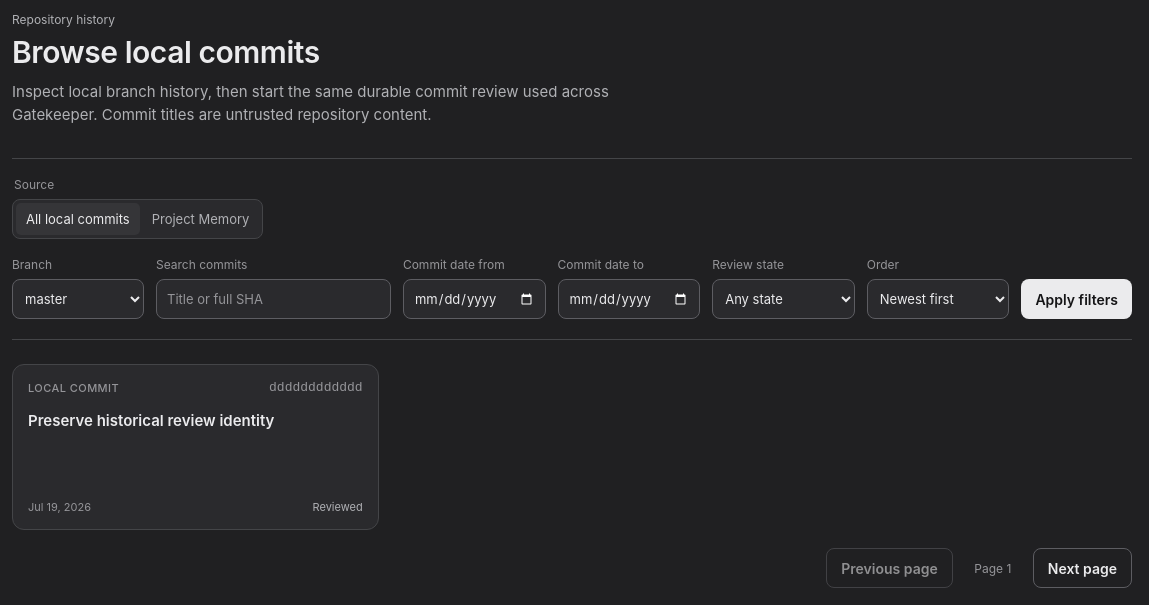
Test case: Commit Explorer › keeps source and filters in scope while paginating forward and backward
The image size is (1149, 605).
expect the text "Preserve historical review identity" is shown: met, box [28,411,274,430]
Click the radio button labelled "Project Memory" at (201, 219), box [152,211,250,227]
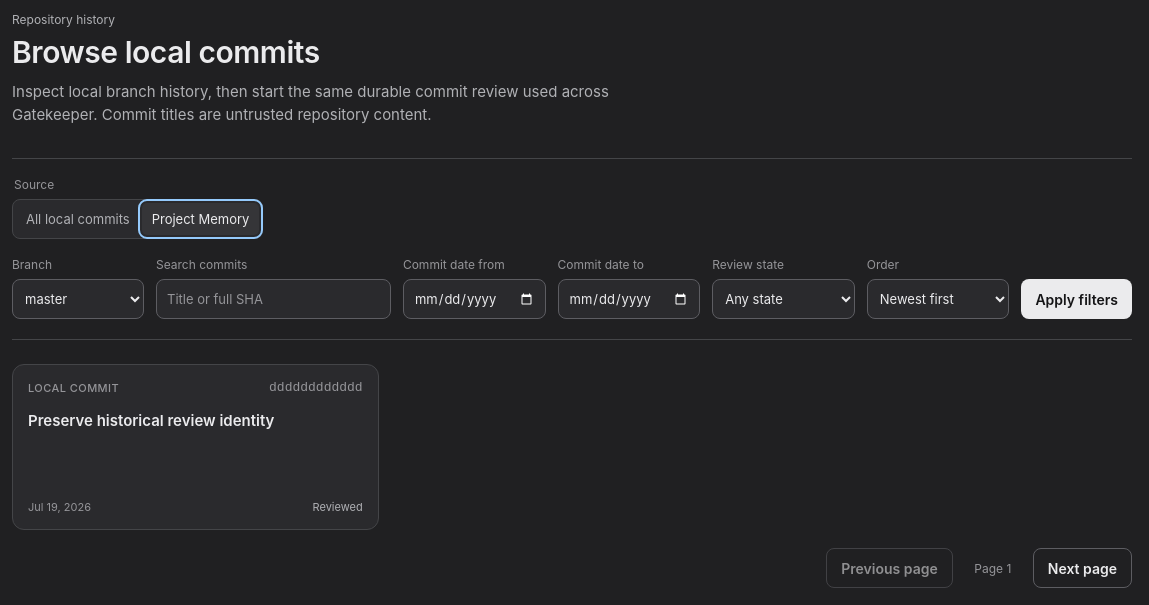
Type "identity" into the search field labelled "Search commits" at (273, 299), box [156,279,391,319]
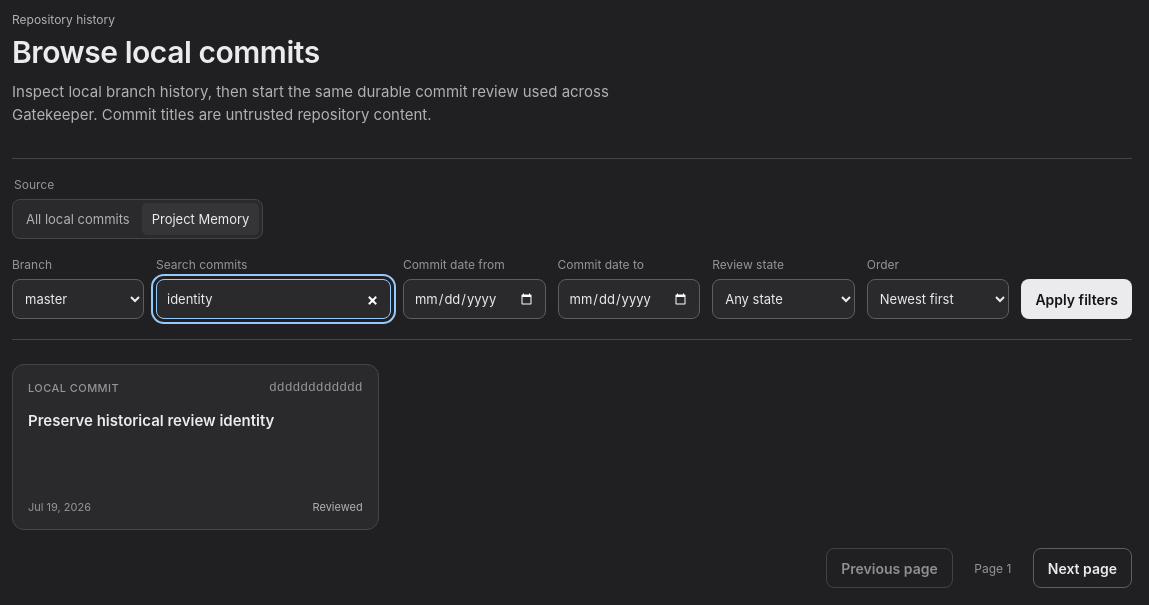
Click the button "Apply filters" at (1077, 299), box [1021,279,1132,319]
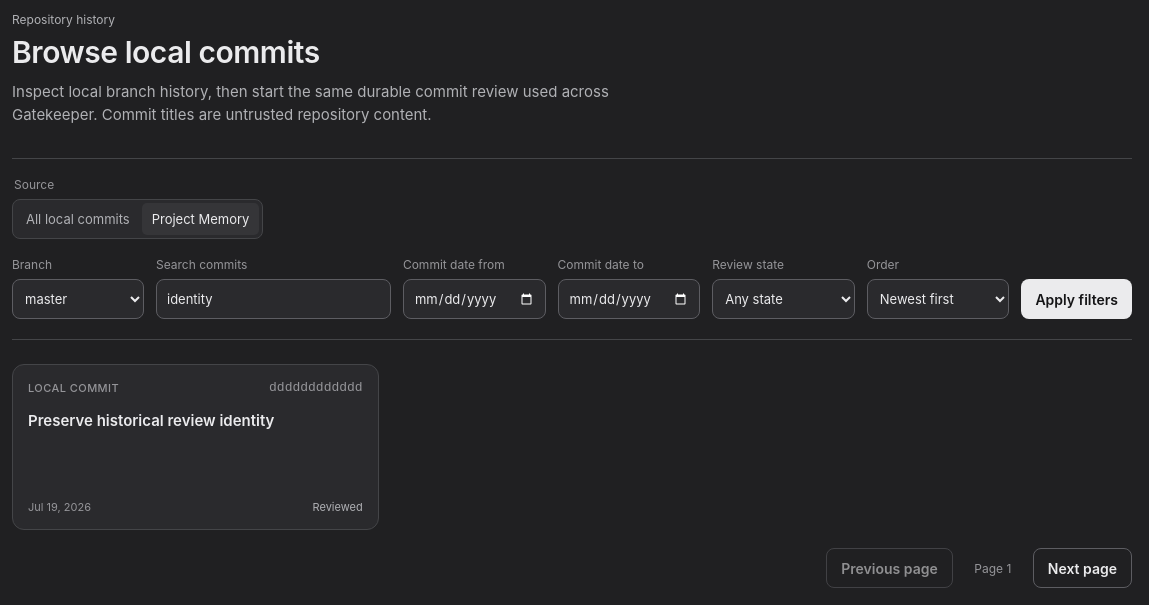
expect the text "Preserve historical review identity" is shown: met, box [28,411,274,430]
Click the button "Next page" at (1082, 568), box [1033,548,1132,588]
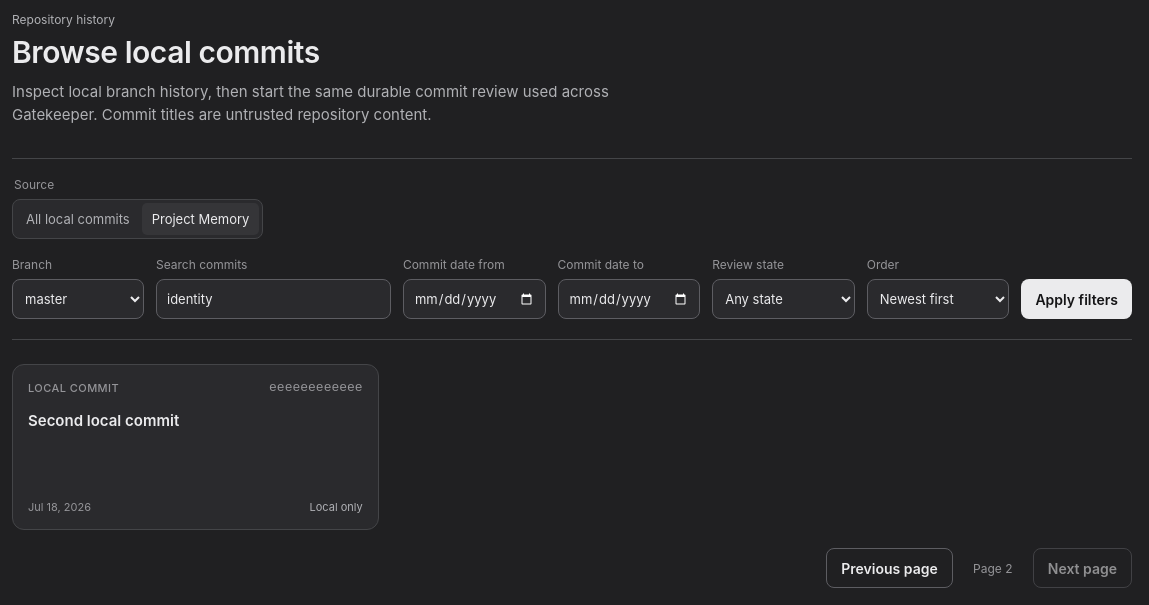
expect the text "Second local commit" is shown: met, box [28,411,179,430]
Click the button "Previous page" at (890, 568), box [826,548,953,588]
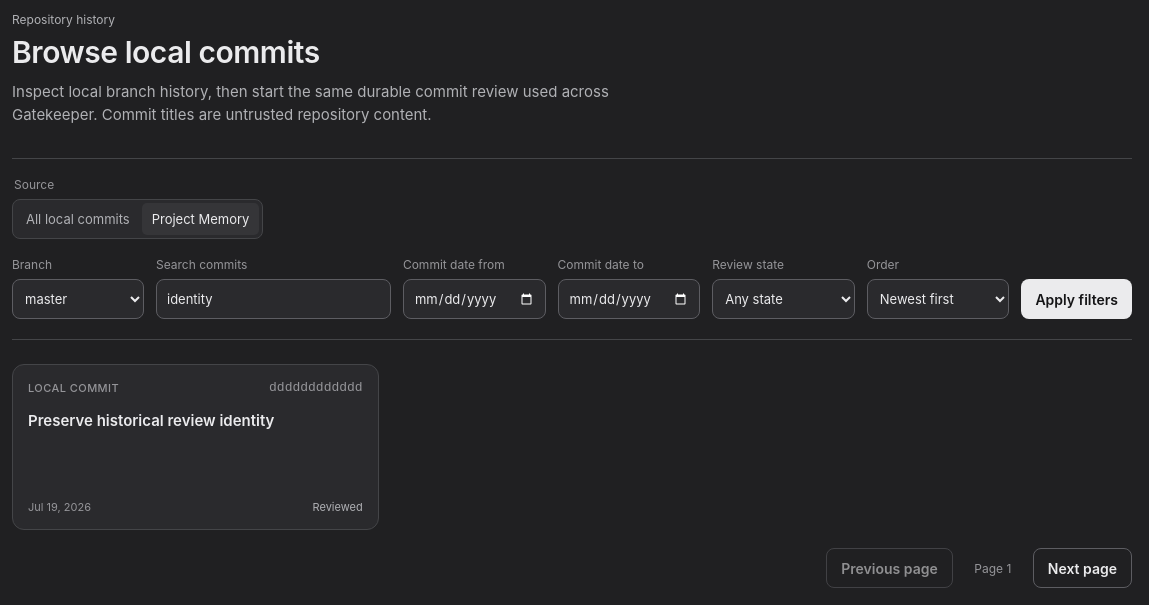
expect the text "Preserve historical review identity" is shown: met, box [28,411,274,430]
